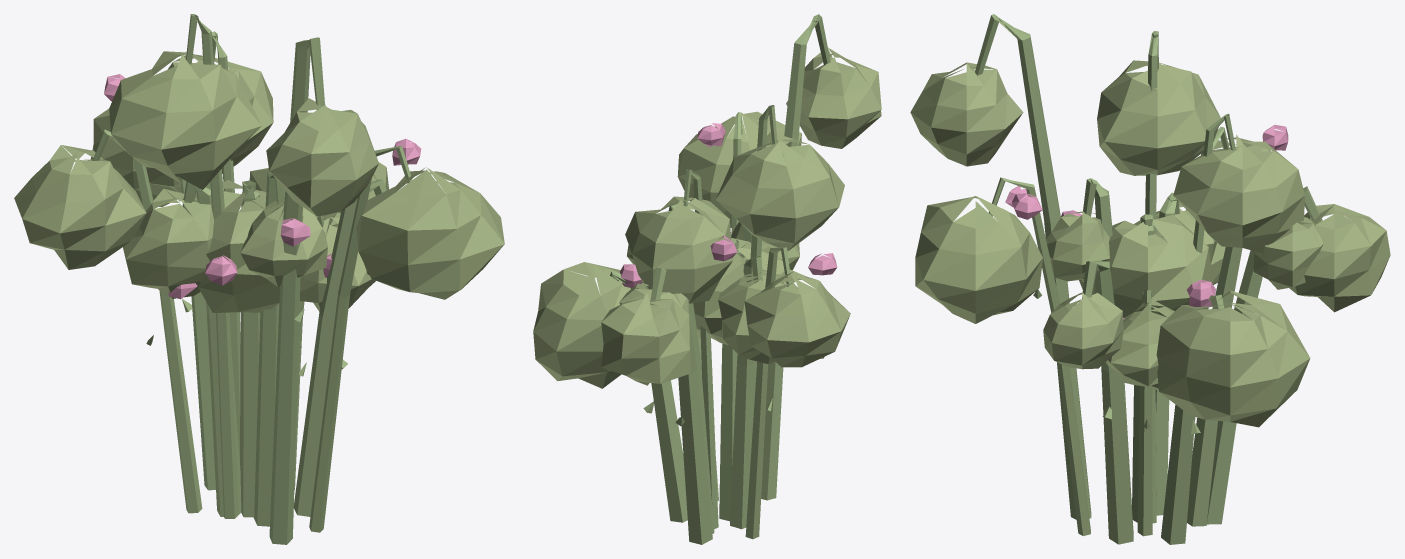
File: temperate-forest-ecology-dog-rose-shrub-baf4d436__3836.glb
3 views of the same model, side by side, from view 1: azimuth 30°, elevation 25°; view 2: azimuth 150°, elevation 25°; view 3: azimuth 270°, elevation 25° (orthographic). The views are drawn at different scales.
Visible parts, largest first — view 1: dog-rose-shrub; view 2: dog-rose-shrub; view 3: dog-rose-shrub.
Part boxes in pixels (<box>): dog-rose-shrub: <box>14,14,504,544</box>; dog-rose-shrub: <box>533,14,881,544</box>; dog-rose-shrub: <box>910,14,1390,544</box>.
Size of the model in its own units: 2.22 by 3.16 by 2.77.
